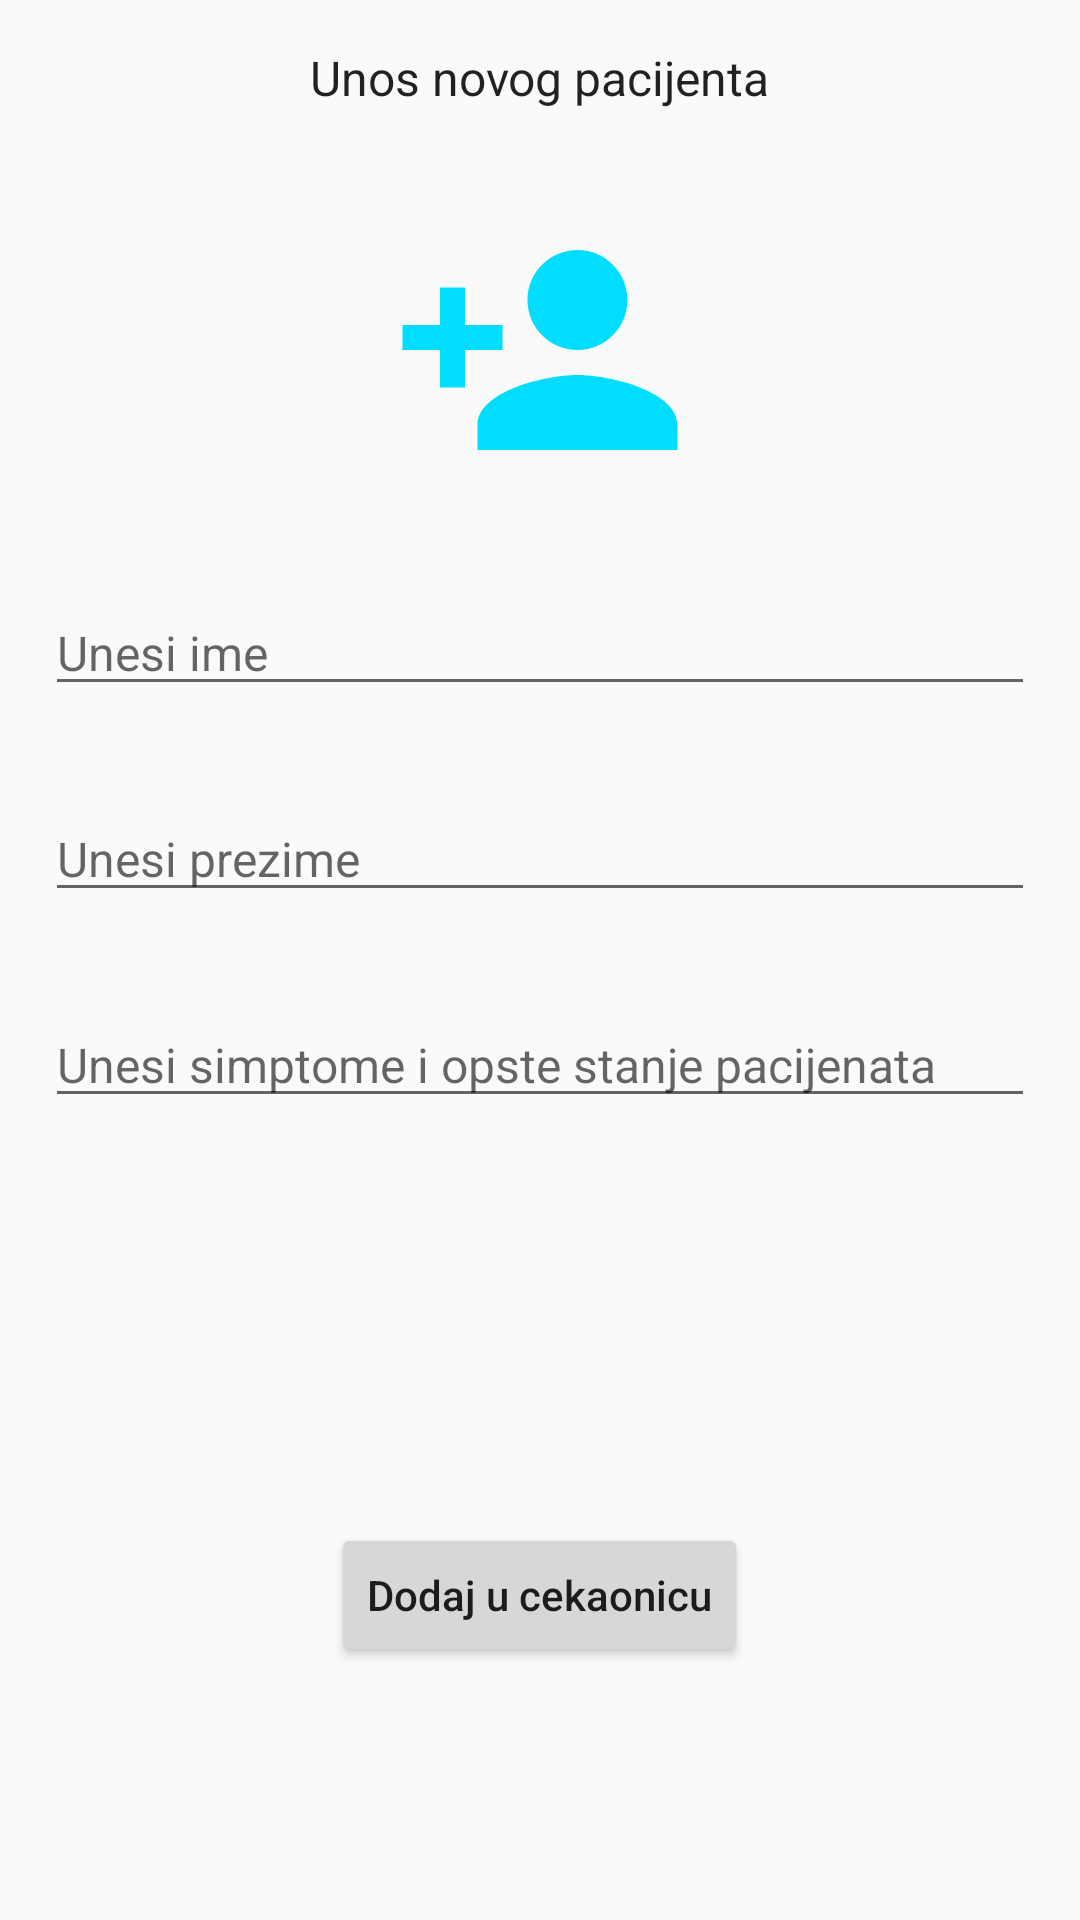

Point at icon controls on the screen. Image size 1080x1920, points as point (x, y).
add pacient: point (540, 350)
